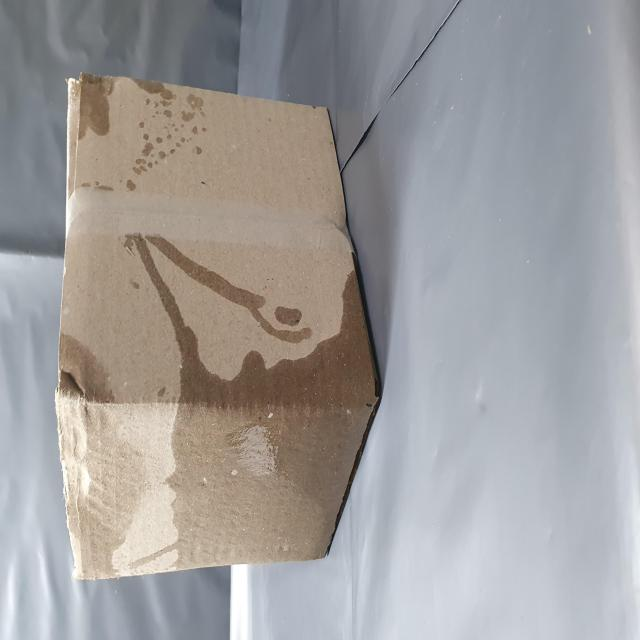wet: (37, 114, 223, 640), (276, 118, 322, 204)
